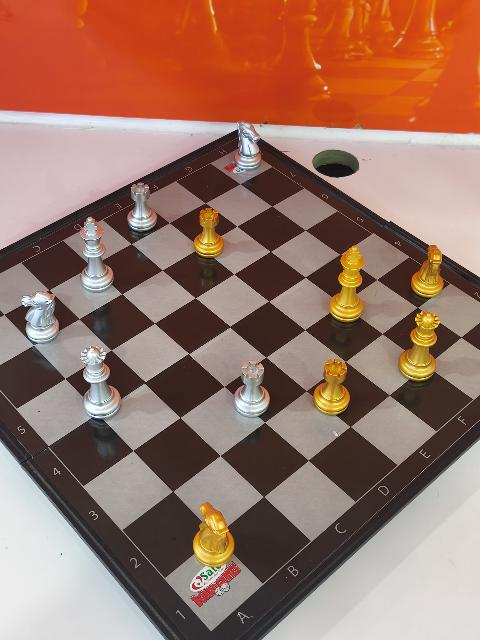black_king: (328, 246, 366, 323)
black_knight: (192, 504, 236, 570), (410, 245, 446, 300)
black_queen: (399, 312, 441, 384)
black_rook: (312, 358, 351, 418), (192, 207, 225, 261)
white_king: (80, 217, 113, 293)
white_knight: (22, 291, 60, 346), (234, 122, 263, 172)
white_queen: (80, 346, 122, 422)
white_rook: (234, 360, 270, 420), (127, 183, 158, 235)
